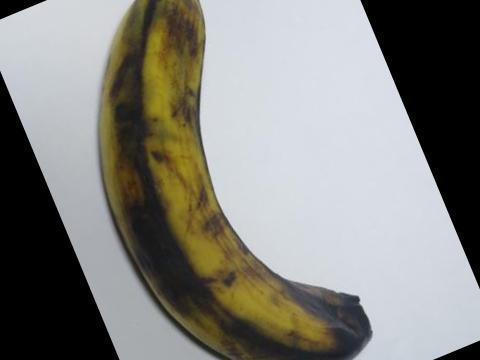overripe: (68, 0, 376, 359)
